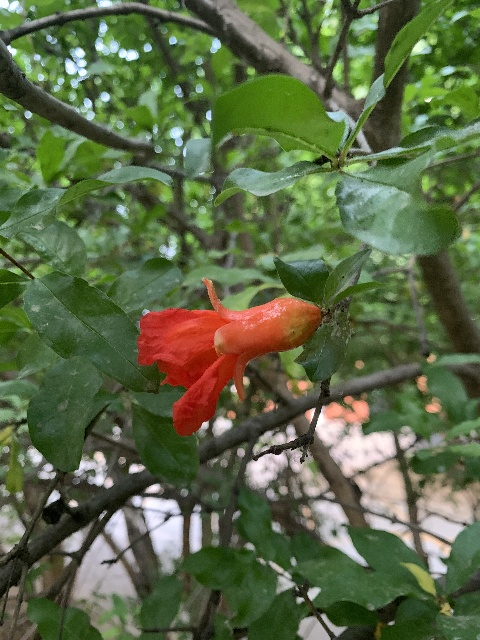flower: (136, 277, 321, 435)
